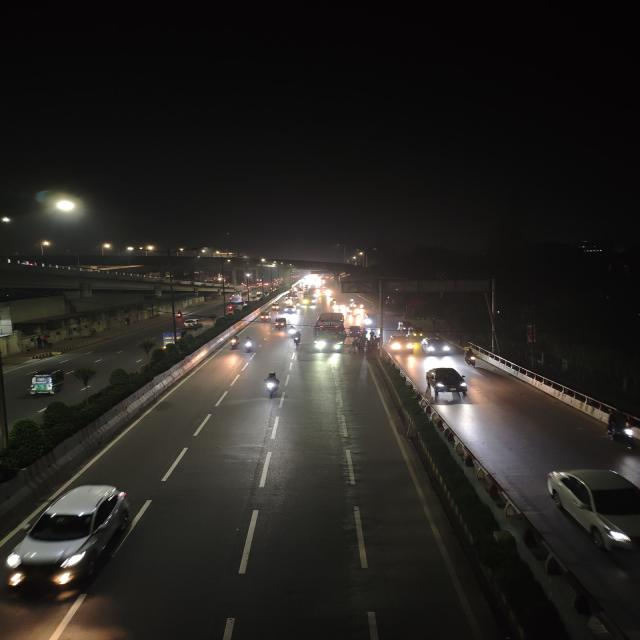bus: (312, 312, 348, 353), (301, 291, 319, 307)
car: (2, 478, 143, 606), (542, 465, 640, 569), (423, 365, 472, 405), (419, 336, 453, 358), (389, 334, 418, 354), (181, 317, 204, 330), (273, 315, 289, 329), (282, 305, 299, 315), (225, 302, 242, 311)
cng: (25, 366, 69, 398), (259, 312, 271, 324)
motorcycle: (601, 409, 640, 453), (259, 370, 284, 400), (462, 349, 480, 369), (289, 330, 302, 348), (242, 336, 255, 354), (228, 335, 240, 351)
pedestrian: (371, 333, 381, 348), (351, 337, 359, 354)
